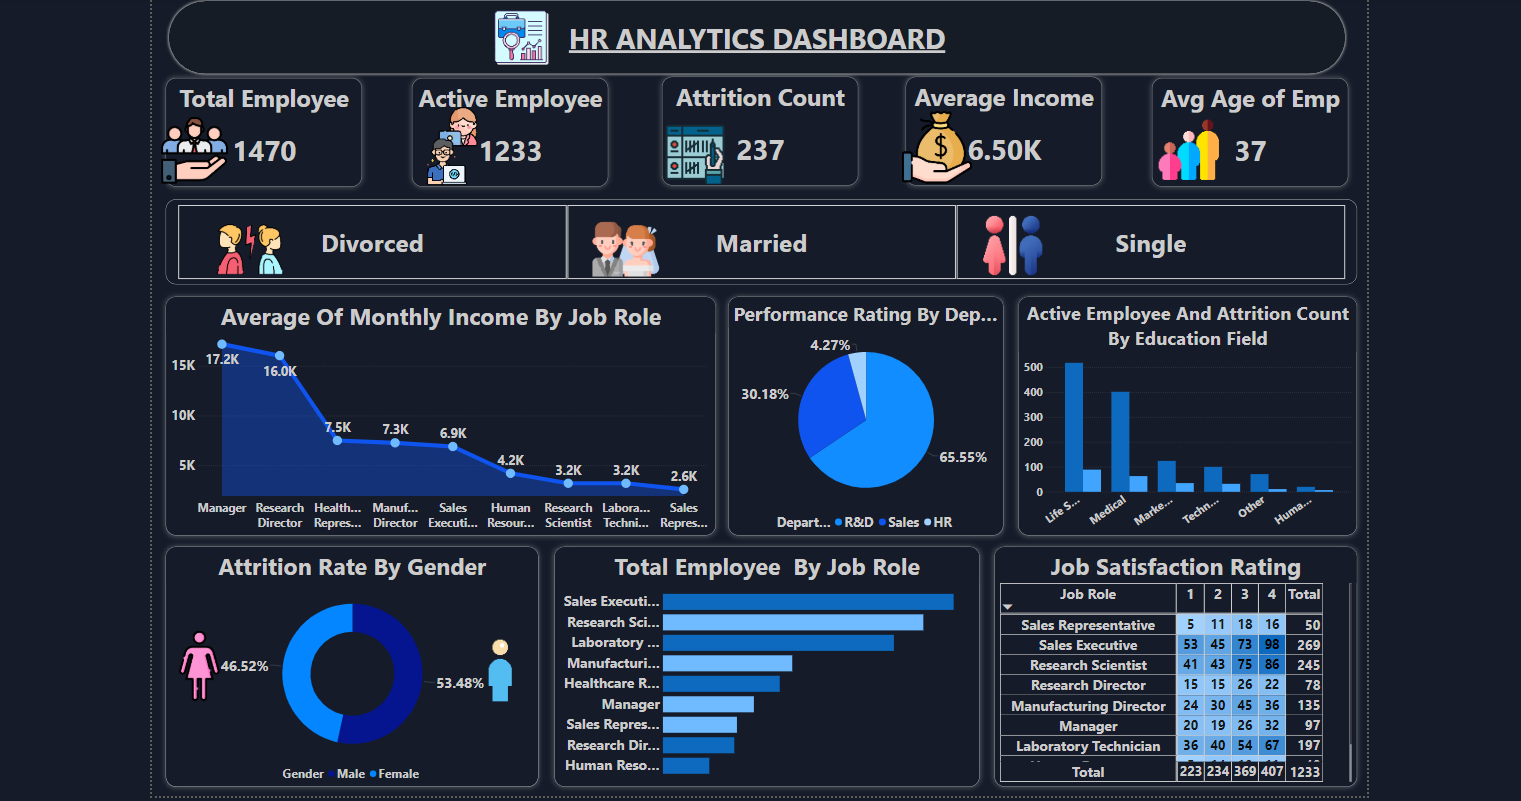

The page's visual inventory and layout, read from the dashboard file:
{"tool":"powerbi","page":{"name":"Page 1","canvas":[3500,2300],"ordinal":0},"visuals":[{"type":"card","title":"Active Employee","fields":{"Values":["hr data.active employee"]},"box":[748.7,230.4,565.1,313.1],"z":0},{"type":"card","title":"Average Income","fields":{"Values":["Avg(hr data.Monthly Income)"]},"box":[2170.4,226.8,565.1,313.1],"z":1000},{"type":"card","title":"Total Employee","fields":{"Values":["Sum(hr data.Employee Count)"]},"box":[39.6,230.4,565.1,313.1],"z":2000},{"type":"card","title":"Avg Age of Emp","fields":{"Values":["Avg(hr data.Age)"]},"box":[2879.5,230.4,565.1,313.1],"z":3000},{"type":"card","title":"Attrition Count","fields":{"Values":["Sum(hr data.attrition count)"]},"box":[1468.5,226.8,565.1,313.1],"z":4000},{"type":"slicer","title":"Marital Status","fields":{"Values":["hr data.Marital Status"]},"box":[39.6,579.5,3430.2,244.8],"z":6000},{"type":"donutChart","title":"Attrition Rate By Gender","fields":{"Category":["hr data.Gender"],"Y":["hr data.attrition rate"]},"box":[39.6,1580.1,1072.6,691.1],"z":7000},{"type":"areaChart","title":"Average Of Monthly Income By Job Role","fields":{"Category":["hr data.Job Role"],"Y":["Avg(hr data.Monthly Income)"]},"box":[39.6,860.3,1583.7,687.5],"z":7001},{"type":"pieChart","title":"Performance Rating By Department","fields":{"Category":["hr data.Department"],"Y":["Sum(hr data.Performance Rating)"]},"box":[1659.3,860.3,791.9,687.5],"z":7002},{"type":"clusteredBarChart","title":"Total Employee  By Job Role","fields":{"Y":["Sum(hr data.Employee Count)"],"Category":["hr data.Job Role"]},"box":[1159,1580.1,1223.8,691.1],"z":7003},{"type":"pivotTable","title":"Job Satisfaction Rating","fields":{"Columns":["hr data.Job Satisfaction"],"Rows":["hr data.Job Role"],"Values":["hr data.active employee"]},"box":[2426,1580.1,1043.8,691.1],"z":7004},{"type":"clusteredColumnChart","title":"Active Employee And  Attrition Count By Education Field","fields":{"Category":["hr data.Education Field"],"Y":["hr data.active employee","Sum(hr data.attrition count)"]},"box":[2494.4,860.3,975.4,687.5],"z":7005},{"type":"image","box":[14.4,1817.7,244.8,212.4],"z":7006},{"type":"image","box":[845.9,1842.9,313.1,187.2],"z":7007},{"type":"image","box":[100.8,622.7,363.5,201.6],"z":7008},{"type":"image","box":[1184.2,622.7,359.9,201.6],"z":7009},{"type":"image","box":[2296.4,622.7,363.5,180],"z":7011},{"type":"shape","box":[39.6,0,3405,226.8],"z":7012},{"type":"image","box":[2893.9,280.8,183.6,313.1],"z":7013},{"type":"image","box":[2138,320.3,244.8,219.6],"z":7014},{"type":"image","box":[788.3,309.5,187.2,122.4],"z":7015},{"type":"image","box":[665.9,388.7,367.1,154.8],"z":7016},{"type":"image","box":[21.6,327.5,201.6,223.2],"z":7017},{"type":"image","box":[1468.5,320.3,190.8,259.2],"z":7018},{"type":"image","box":[881.8,28.8,367.1,172.8],"z":7019}]}

Visuals, with their boxes on the page's 3500x2300 design canvas (x1, y1, x2, y2). These are canvas units, not pixel positions in the 1521x801 screenshot, which may show the page scaled, cropped or inside an application window:
"Active Employee" card: 749,230,1314,544
"Average Income" card: 2170,227,2736,540
"Total Employee" card: 40,230,605,544
"Avg Age of Emp" card: 2880,230,3445,544
"Attrition Count" card: 1468,227,2034,540
"Marital Status" slicer: 40,580,3470,824
"Attrition Rate By Gender" donutChart: 40,1580,1112,2271
"Average Of Monthly Income By Job Role" areaChart: 40,860,1623,1548
"Performance Rating By Department" pieChart: 1659,860,2451,1548
"Total Employee  By Job Role" clusteredBarChart: 1159,1580,2383,2271
"Job Satisfaction Rating" pivotTable: 2426,1580,3470,2271
"Active Employee And  Attrition Count By Education Field" clusteredColumnChart: 2494,860,3470,1548
image: 14,1818,259,2030
image: 846,1843,1159,2030
image: 101,623,464,824
image: 1184,623,1544,824
image: 2296,623,2660,803
shape: 40,0,3445,227
image: 2894,281,3078,594
image: 2138,320,2383,540
image: 788,310,976,432
image: 666,389,1033,544
image: 22,328,223,551
image: 1468,320,1659,580
image: 882,29,1249,202
